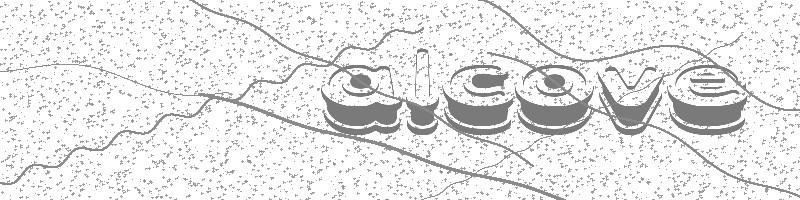a: (319, 63, 404, 135)
c: (441, 63, 514, 136)
e: (666, 64, 747, 137)
l: (405, 47, 441, 136)
o: (515, 63, 596, 136)
v: (596, 66, 664, 137)
